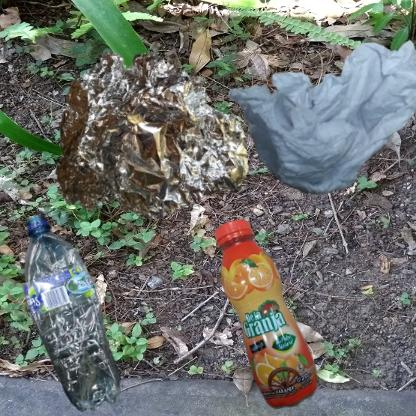aluminio: (10, 10, 299, 296)
botella: (10, 213, 139, 416), (213, 213, 326, 416)
papel: (213, 10, 416, 217)
